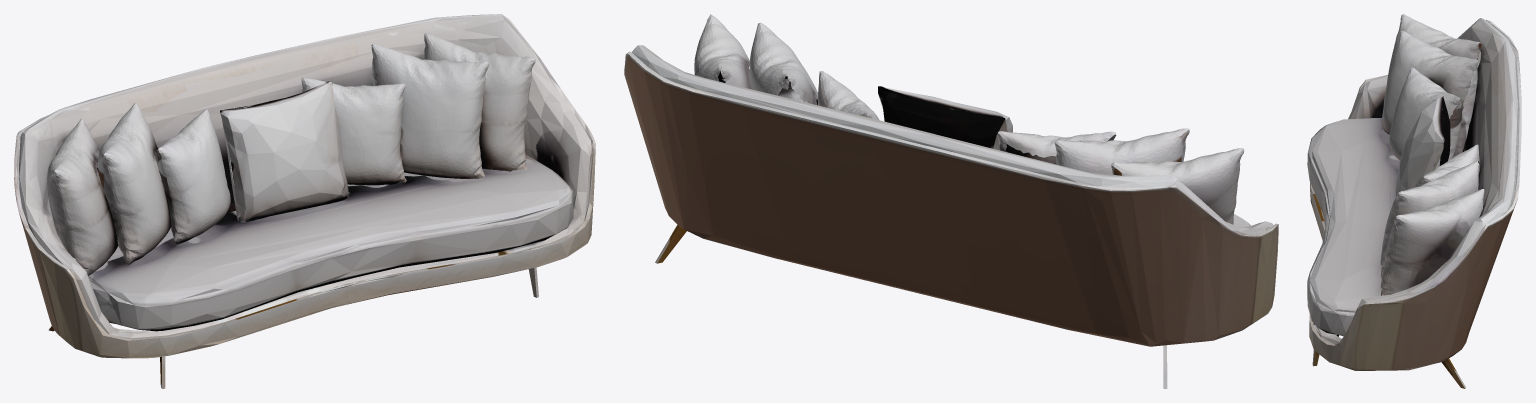
The model's file is edited_mesh.glb.
3 views of the same model, side by side, from view 1: azimuth 30°, elevation 25°; view 2: azimuth 150°, elevation 25°; view 3: azimuth 270°, elevation 25° (orthographic). The views are drawn at different scales.
Parts seen in each view (by area): view 1: solid_001_wire; view 2: solid_001_wire; view 3: solid_001_wire.
Part boxes in pixels (box(x1,y1,x2,y2)): solid_001_wire: box(14, 14, 595, 388); solid_001_wire: box(624, 14, 1278, 388); solid_001_wire: box(1307, 14, 1521, 388).
Bounding box in the file's own units: 2 × 0.7102 × 0.7886.
1 material, 1 textured.
